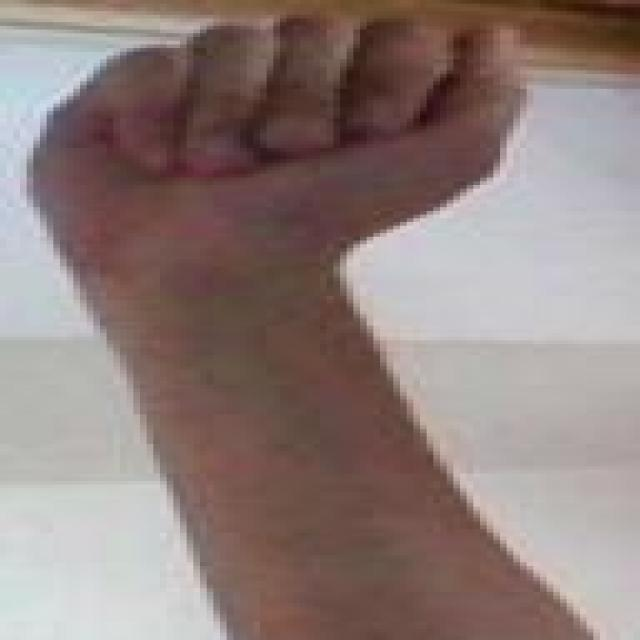A: (22, 3, 578, 246)
